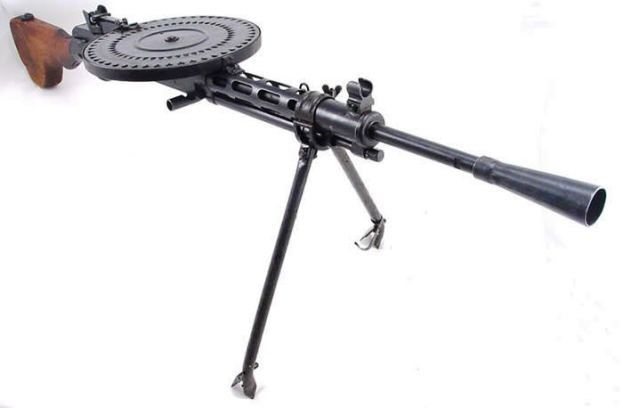rifle: (11, 8, 612, 395)
